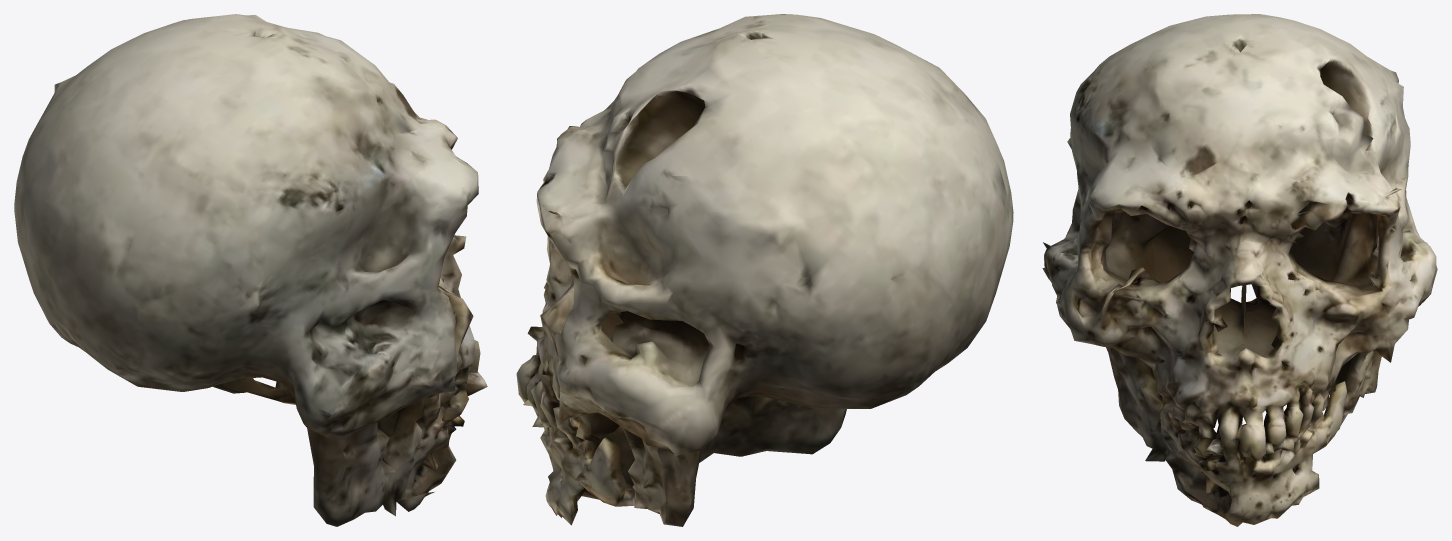
Rendered from p_ribcage.glb.
The picture shows the model from 3 angles, left to right: view 1: azimuth 30°, elevation 25°; view 2: azimuth 150°, elevation 25°; view 3: azimuth 270°, elevation 25°; orthographic projection. The views are drawn at different scales.
Visible parts, largest first — view 1: tripo_node_107fddc0-061a-4af1-9351-3983e49ffa76; view 2: tripo_node_107fddc0-061a-4af1-9351-3983e49ffa76; view 3: tripo_node_107fddc0-061a-4af1-9351-3983e49ffa76.
Part boxes in pixels (x1,y1,x2,y2): tripo_node_107fddc0-061a-4af1-9351-3983e49ffa76: [14, 14, 487, 526]; tripo_node_107fddc0-061a-4af1-9351-3983e49ffa76: [516, 14, 1013, 526]; tripo_node_107fddc0-061a-4af1-9351-3983e49ffa76: [1042, 14, 1437, 526].
Size of the model in its own units: 0.9147 by 1 by 0.8651.
Materials: 1 (1 with a texture image).
